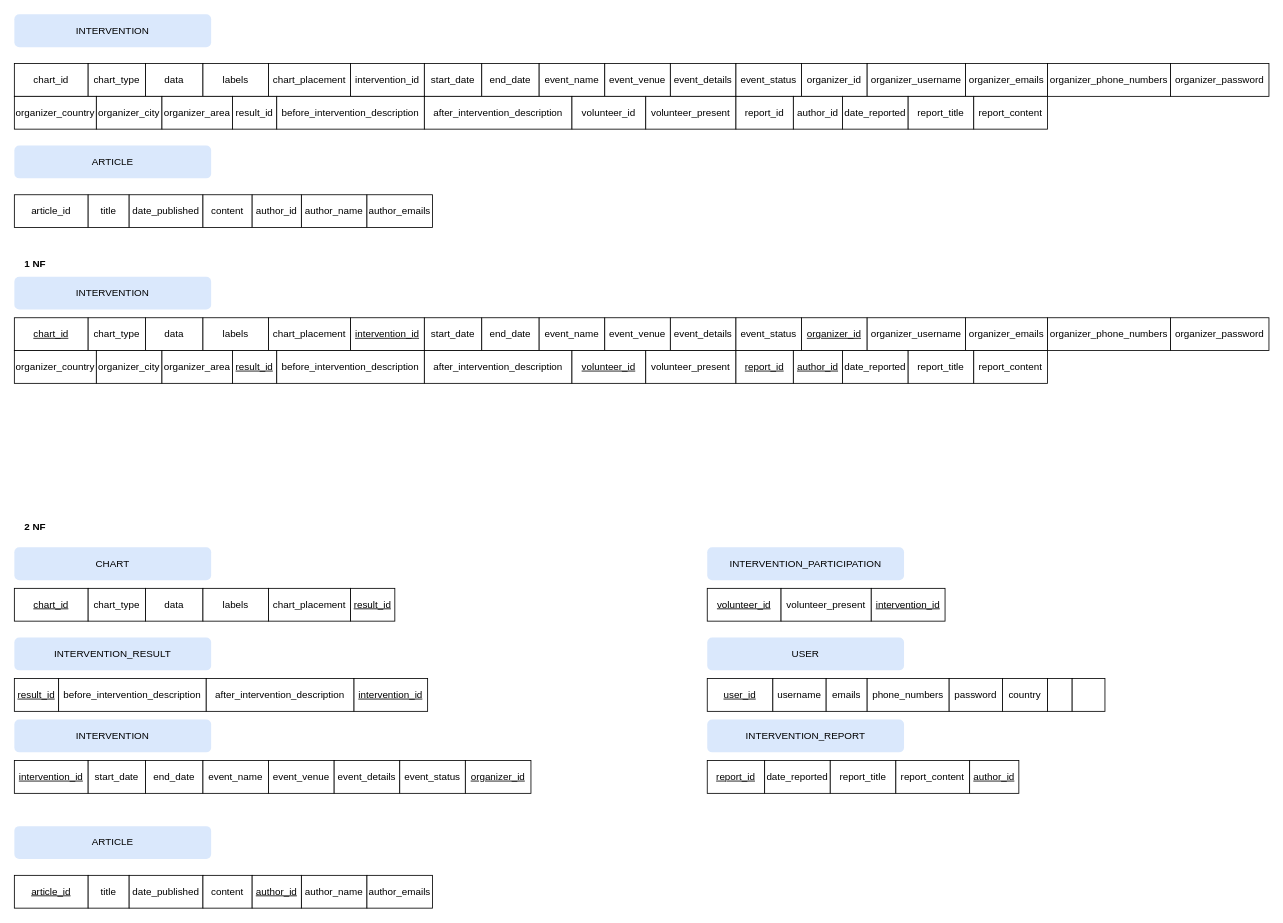
This 1283x923 diagram has some shape labels left out. The shapes that lost their labels are listed below. From the top down, each one's centre as x and y in pixels, then its label:
At point (1059, 694): "city".
At point (1088, 694): "area".
